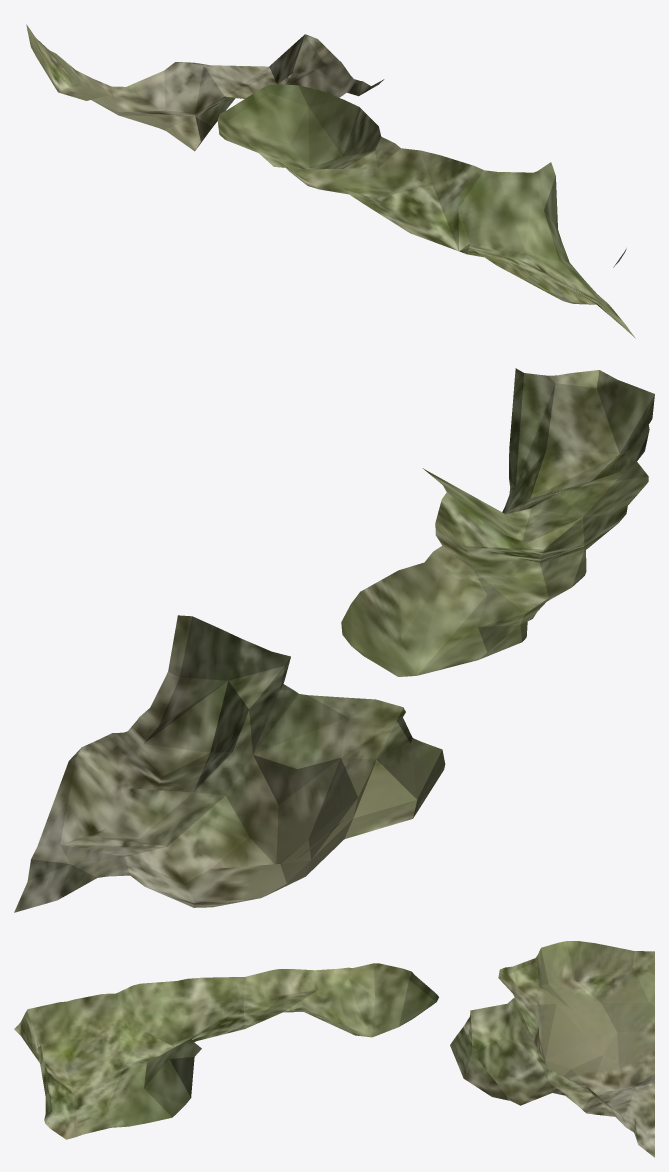
3 views of the same model, one above another, from view 1: azimuth 30°, elevation 25°; view 2: azimuth 150°, elevation 25°; view 3: azimuth 270°, elevation 25° (orthographic). The views are drawn at different scales.
Bounding box in the file's own units: 1.04 × 0.4913 × 2.61.
1 material, 1 textured.
